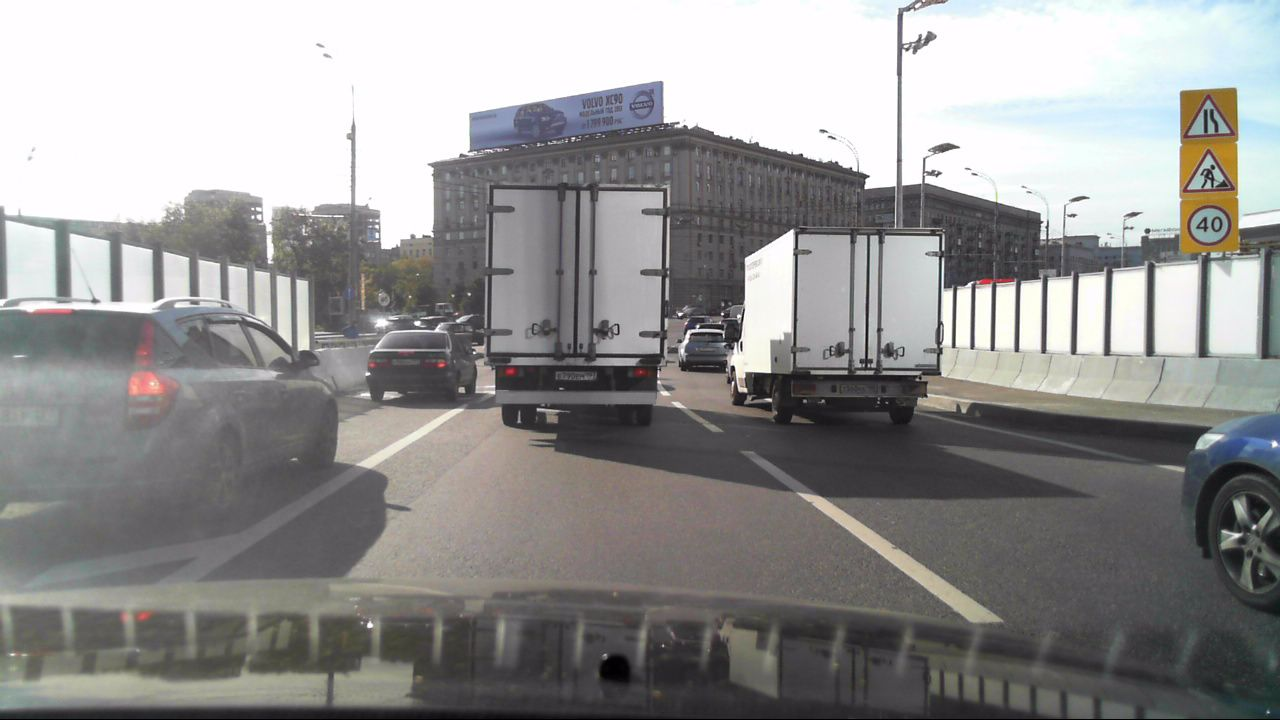speed_warning_40: (1179, 199, 1239, 252)
